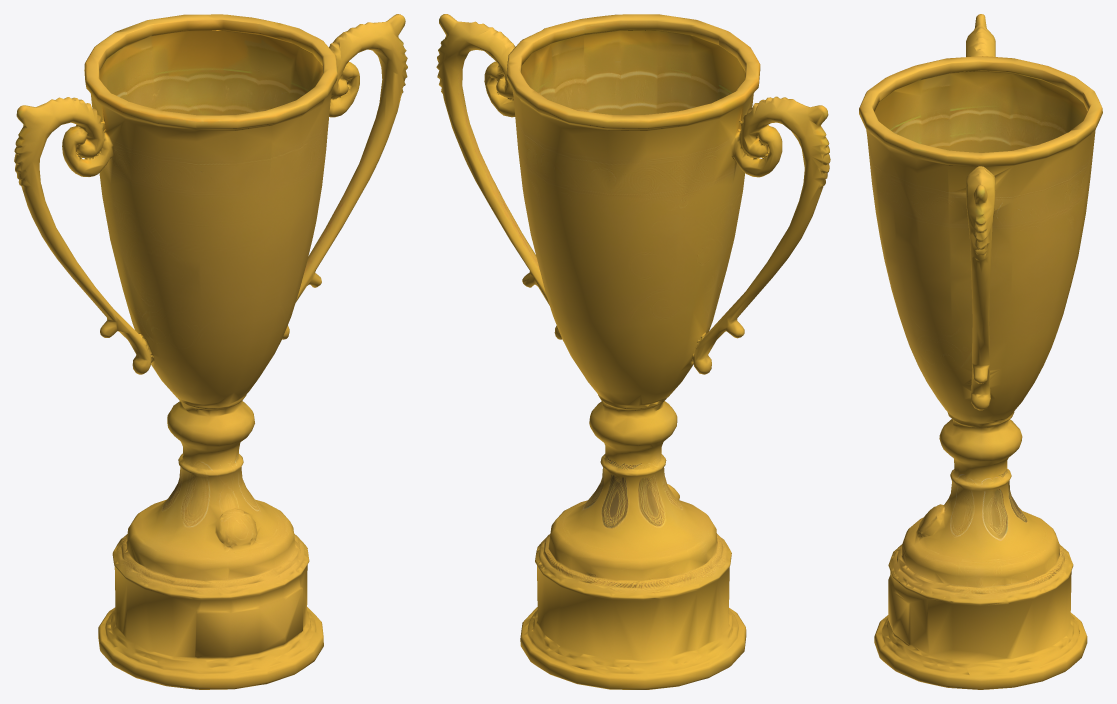
Rendered from trophy.fbx.
3 views of the same model, side by side, from view 1: azimuth 30°, elevation 25°; view 2: azimuth 150°, elevation 25°; view 3: azimuth 270°, elevation 25° (orthographic). The views are drawn at different scales.
Visible parts, largest first — view 1: Mesh_0; view 2: Mesh_0; view 3: Mesh_0.
Part boxes in pixels (box(x1,y1,x2,y2)): Mesh_0: box(14, 14, 407, 689); Mesh_0: box(436, 14, 830, 689); Mesh_0: box(859, 14, 1102, 689).
Bounding box in the file's own units: 134 × 191 × 77.35.
1 material, 1 textured.
